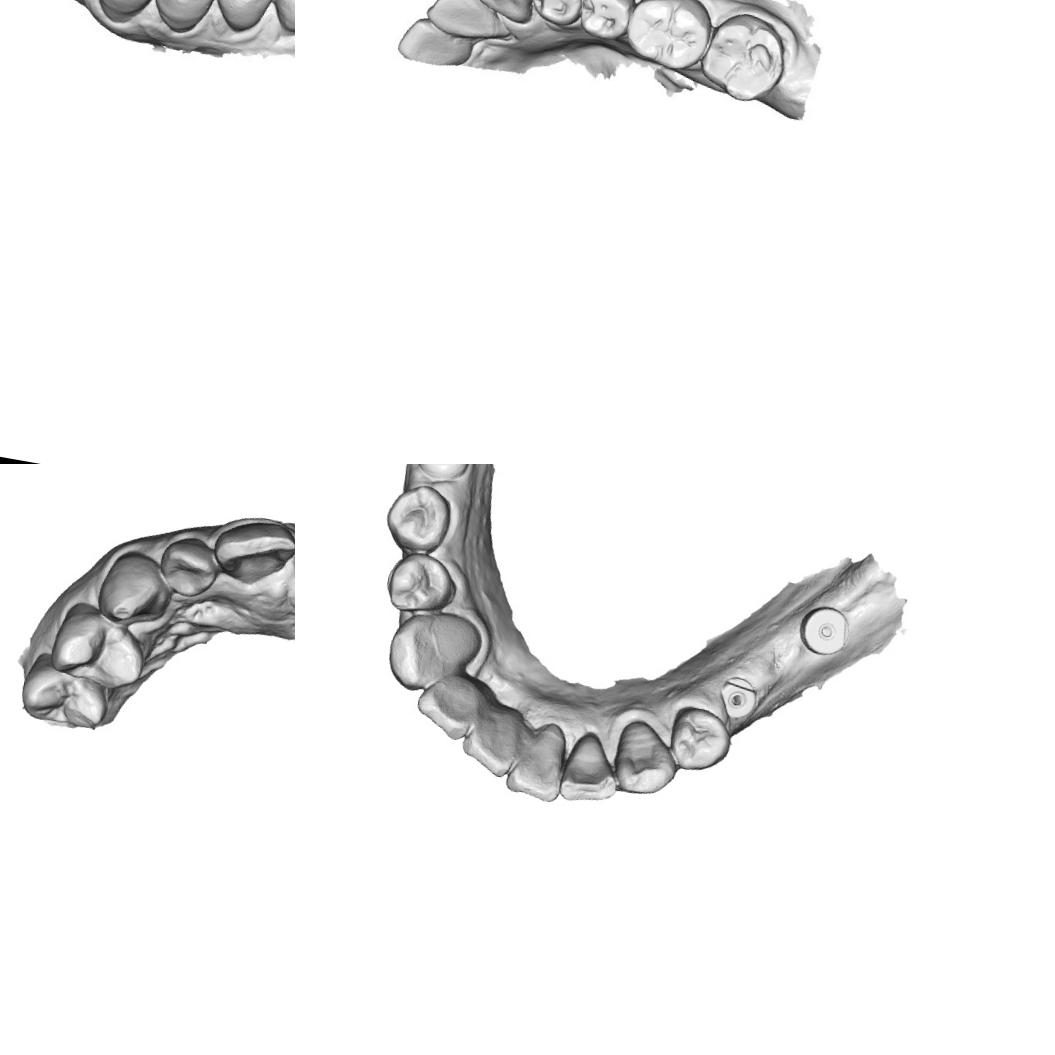canine: (380, 605, 482, 700), (91, 545, 176, 631), (608, 716, 684, 802), (88, 0, 158, 26), (470, 0, 541, 22)
implant: (796, 599, 852, 660), (716, 672, 760, 722), (412, 464, 473, 483)
incisor: (208, 511, 295, 591), (499, 716, 574, 805), (408, 667, 482, 749), (554, 728, 626, 810), (152, 530, 222, 603), (454, 704, 522, 778), (396, 19, 478, 74), (423, 0, 509, 43)
molar: (698, 11, 786, 100), (622, 0, 716, 77)
premolar: (43, 601, 154, 694), (15, 653, 114, 734), (376, 478, 458, 558), (379, 545, 460, 620), (663, 701, 738, 778), (145, 0, 219, 37), (207, 0, 278, 38), (578, 0, 634, 43), (529, 0, 581, 24)
